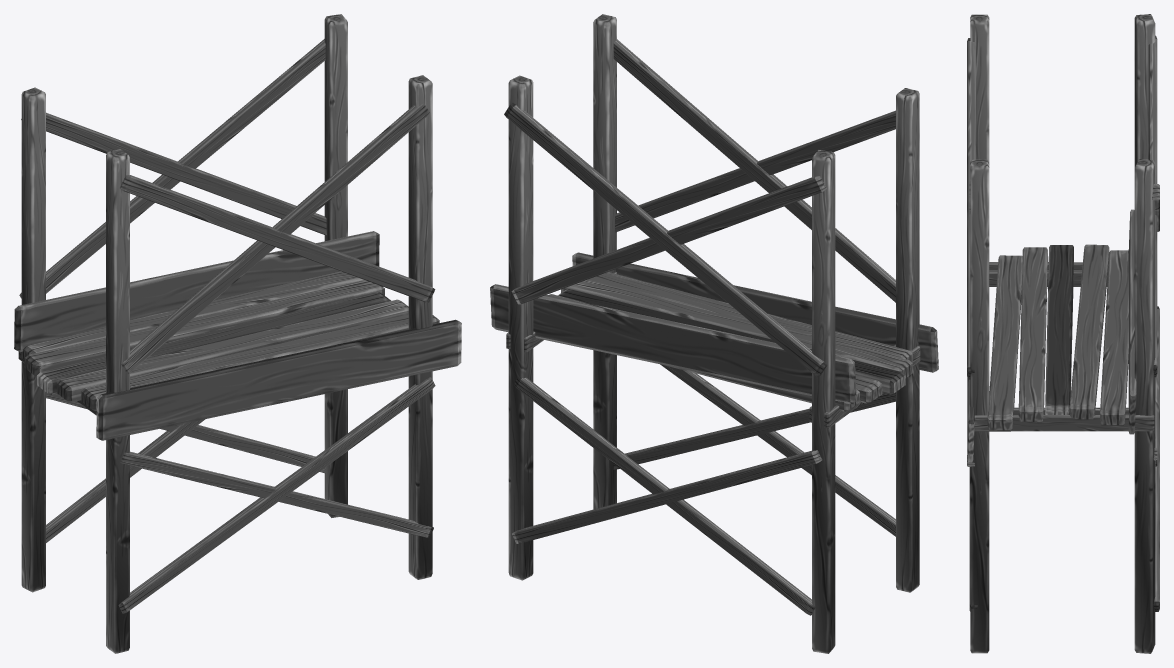
Rendered from SM_Plateforme01_CORRIGEES.FBX.
The picture shows the model from 3 angles, left to right: view 1: azimuth 30°, elevation 25°; view 2: azimuth 150°, elevation 25°; view 3: azimuth 270°, elevation 25°; orthographic projection.
Parts seen in each view (by area): view 1: Plateforme01; view 2: Plateforme01; view 3: Plateforme01.
Boxes of the visible parts, left/top/right/bottom form: Plateforme01: left=14, top=14, right=461, bottom=653; Plateforme01: left=490, top=14, right=938, bottom=653; Plateforme01: left=967, top=14, right=1159, bottom=653.
Bounding box in the file's own units: 398 × 506 × 182.
